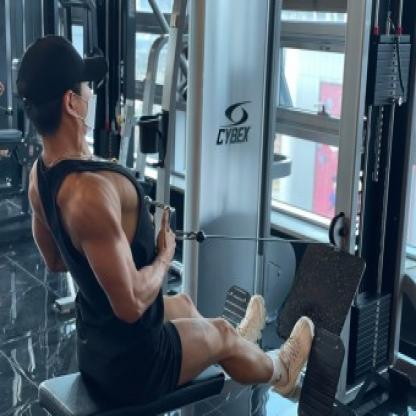Seated Cable Rows: (5, 0, 416, 416)
